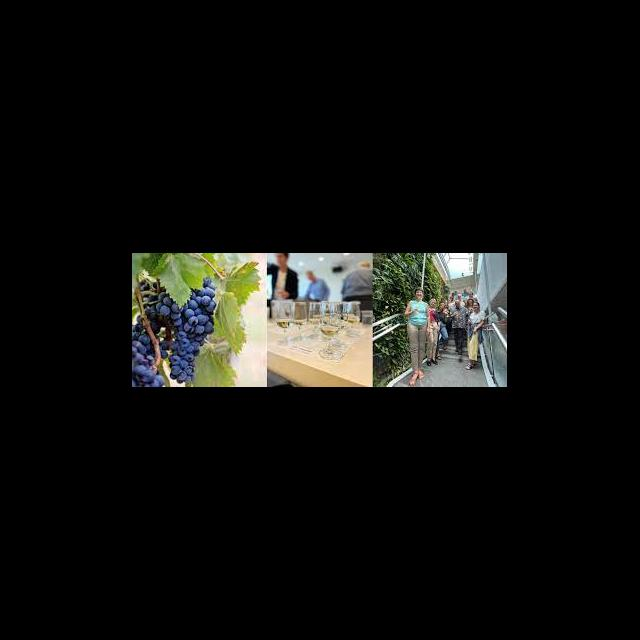grape: (132, 273, 216, 386)
